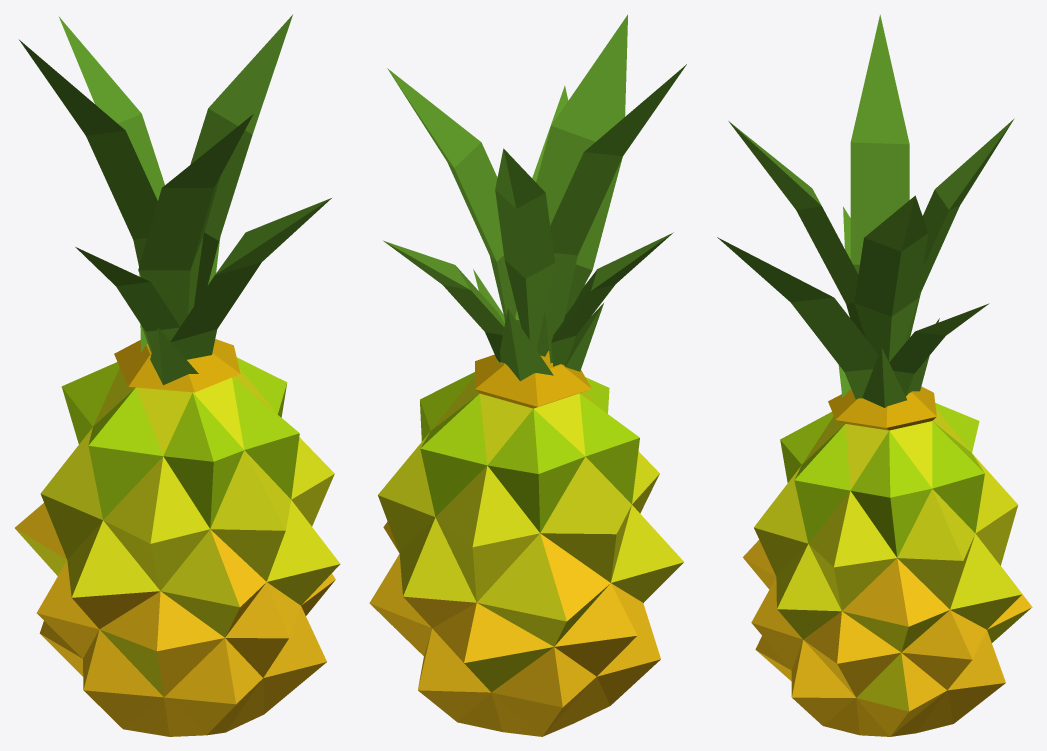
Rendered from Fruit_Consu.glb.
3 views of the same model, side by side, from view 1: azimuth 30°, elevation 25°; view 2: azimuth 150°, elevation 25°; view 3: azimuth 270°, elevation 25° (orthographic). The views are drawn at different scales.
Visible parts, largest first — view 1: pineaple; view 2: pineaple; view 3: pineaple.
Part boxes in pixels (x1=…): pineaple: x1=15, y1=14, x2=340, y2=736; pineaple: x1=369, y1=14, x2=686, y2=736; pineaple: x1=717, y1=14, x2=1032, y2=736.
Bounding box in the file's own units: 0.1593 × 0.3636 × 0.1635.
1 material, 1 textured.
